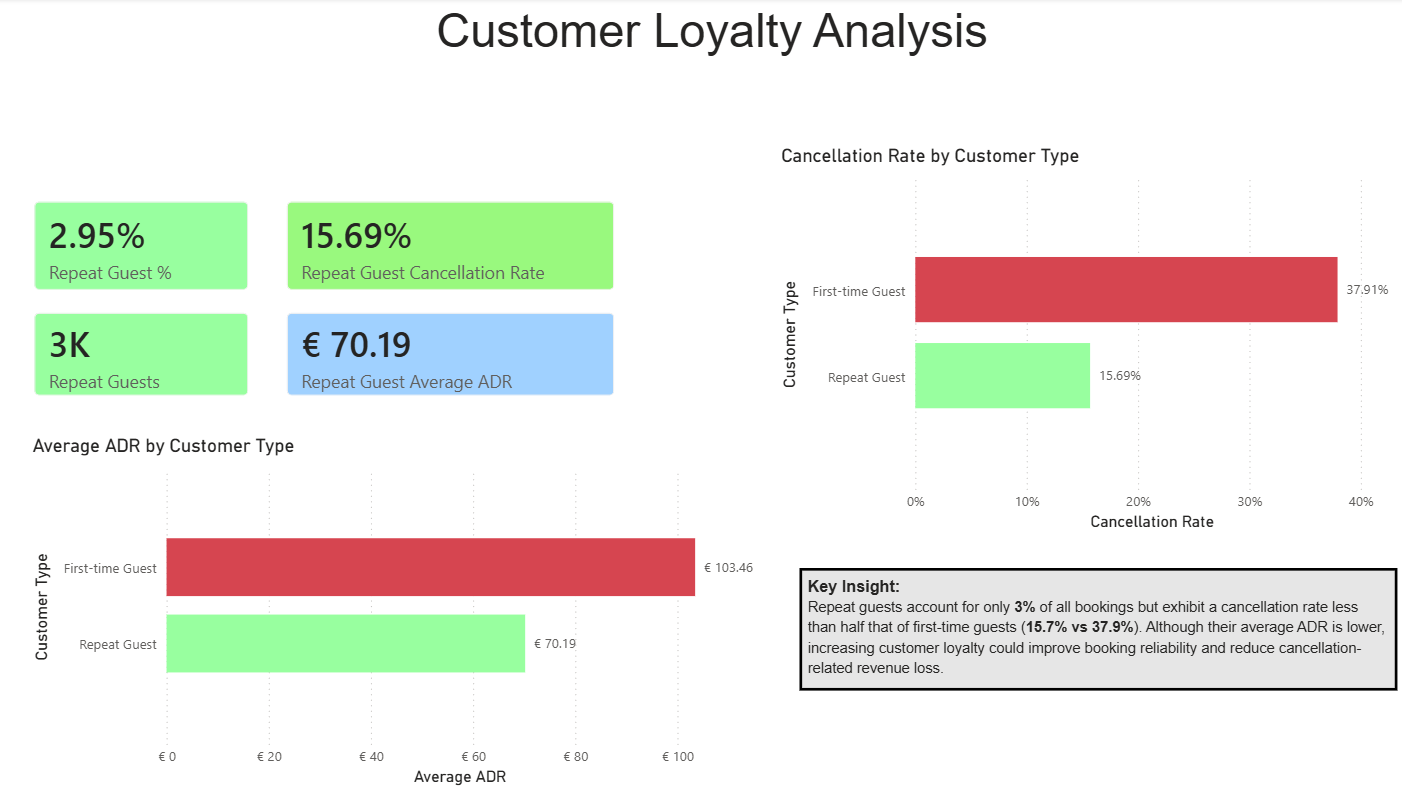

The page's visual inventory and layout, read from the dashboard file:
{"tool":"powerbi","page":{"name":"Page 3","canvas":[1280,720],"ordinal":2},"visuals":[{"type":"textbox","box":[17,0,1263.2,63.5],"z":0},{"type":"textbox","box":[21.5,65.8,1248.5,66.9],"z":1000},{"type":"textbox","box":[728,517.1,542,111.1],"z":2000},{"type":"clusteredBarChart","fields":{"Category":["hotel_bookings_cleaned.Customer Type"],"Y":["hotel_bookings_cleaned.Cancellation Rate"]},"box":[706.5,132.7,573.8,356.1],"z":3000},{"type":"clusteredBarChart","fields":{"Category":["hotel_bookings_cleaned.Customer Type"],"Y":["hotel_bookings_cleaned.Average ADR"]},"box":[27.2,395.7,679.2,324.3],"z":4000},{"type":"cardVisual","fields":{"Data":["hotel_bookings_cleaned.Repeat Guest %"]},"box":[17.6,167.3,228.2,114.7],"z":5000},{"type":"cardVisual","fields":{"Data":["hotel_bookings_cleaned.Repeat Guest Cancellation Rate"]},"box":[245.7,167.3,331.1,114.7],"z":6000},{"type":"cardVisual","fields":{"Data":["hotel_bookings_cleaned.Repeat Guest Average ADR"]},"box":[245.7,269.1,331.1,110],"z":7000},{"type":"cardVisual","fields":{"Data":["hotel_bookings_cleaned.Repeat Guests"]},"box":[17.6,269.1,228.2,110],"z":8000}]}

Visuals, with their boxes in screenshot pixels (x1, y1, x2, y2), scaled from the page's 1280x720 canvas onto the 1402x791 screenshot:
textbox: bbox=[19, 0, 1401, 70]
textbox: bbox=[24, 72, 1391, 146]
textbox: bbox=[797, 568, 1391, 690]
clusteredBarChart - hotel_bookings_cleaned.Customer Type x hotel_bookings_cleaned.Cancellation Rate: bbox=[774, 146, 1401, 537]
clusteredBarChart - hotel_bookings_cleaned.Customer Type x hotel_bookings_cleaned.Average ADR: bbox=[30, 435, 774, 790]
cardVisual - hotel_bookings_cleaned.Repeat Guest %: bbox=[19, 184, 269, 310]
cardVisual - hotel_bookings_cleaned.Repeat Guest Cancellation Rate: bbox=[269, 184, 632, 310]
cardVisual - hotel_bookings_cleaned.Repeat Guest Average ADR: bbox=[269, 296, 632, 416]
cardVisual - hotel_bookings_cleaned.Repeat Guests: bbox=[19, 296, 269, 416]
